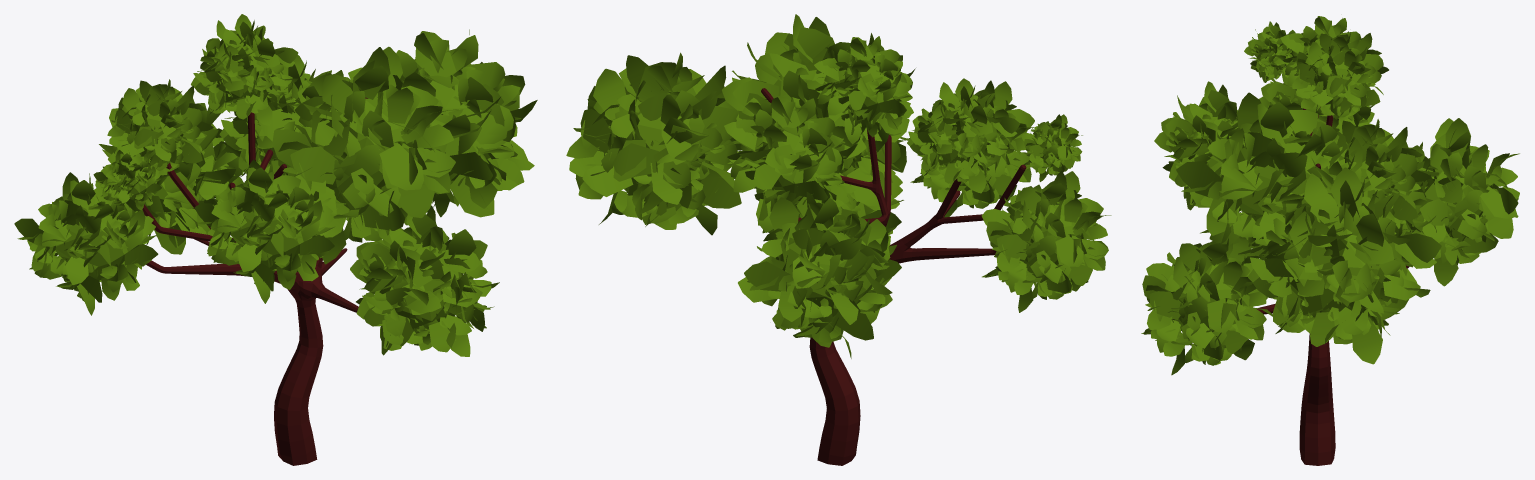
The model's file is LeafTree.fbx.
3 views of the same model, side by side, from view 1: azimuth 30°, elevation 25°; view 2: azimuth 150°, elevation 25°; view 3: azimuth 270°, elevation 25° (orthographic). The views are drawn at different scales.
Visible parts, largest first — view 1: LeafTree; view 2: LeafTree; view 3: LeafTree.
Boxes of the visible parts, x1,y1,x2,y2 form: LeafTree: [14, 14, 537, 465]; LeafTree: [566, 14, 1111, 465]; LeafTree: [1141, 16, 1519, 465].
Bounding box in the file's own units: 8.25 × 6.89 × 5.75.
